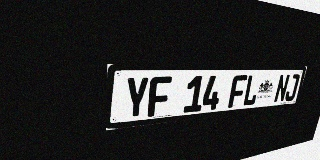1: (183, 76, 206, 113)
4: (201, 75, 223, 111)
F: (147, 76, 172, 117), (228, 75, 247, 108)
J: (284, 74, 300, 102)
L: (242, 75, 261, 106)
N: (273, 74, 290, 103)
Y: (123, 77, 149, 120)
